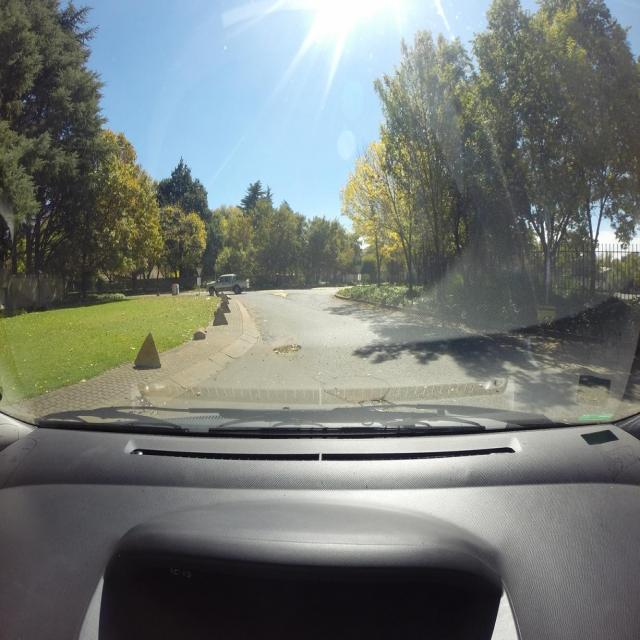Pothole: (271, 344, 302, 354)
